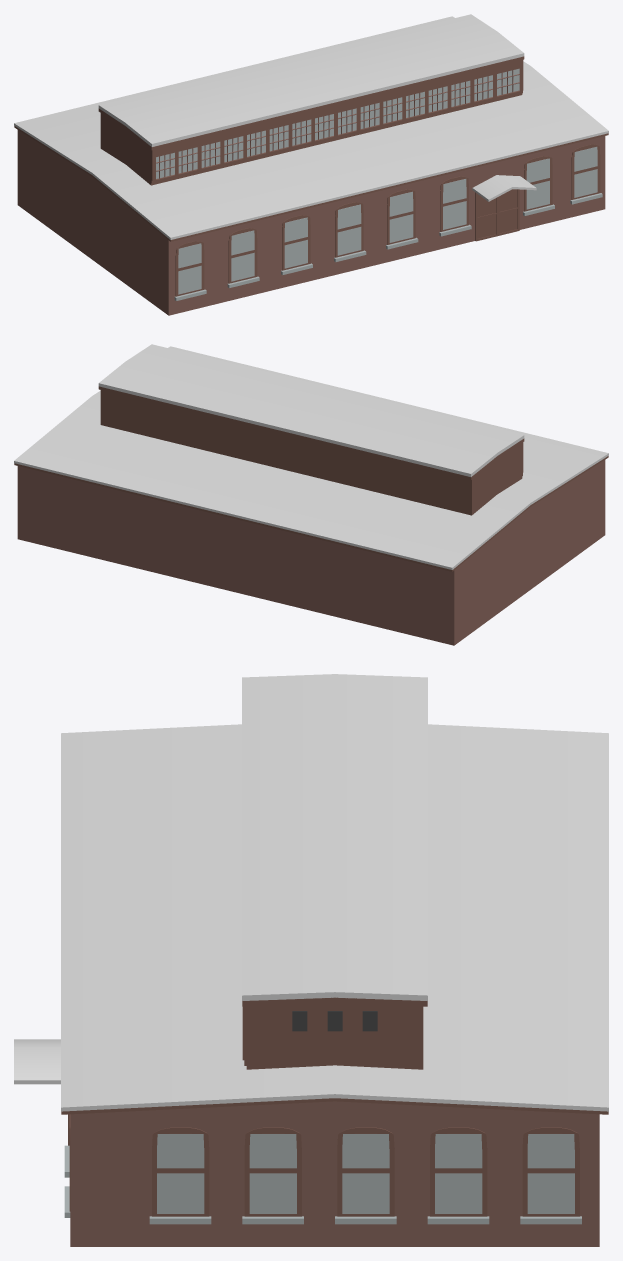
The model's file is unassignedBuilding.fbx.
3 views of the same model, one above another, from view 1: azimuth 30°, elevation 25°; view 2: azimuth 150°, elevation 25°; view 3: azimuth 270°, elevation 25° (orthographic). The views are drawn at different scales.
Parts seen in each view (by area): view 1: MB_UpperRoof, polySurface2, UB_UpperRoof, Window, windowBars, UpperWindowPanel, UpperBuilding, UB_LowerRoof, LowerWindowPanel, MB_LowerRoof, Window4, Window5 (+17 smaller); view 2: polySurface2, MB_UpperRoof, UB_UpperRoof, UpperBuilding, UB_LowerRoof, MB_LowerRoof; view 3: MB_UpperRoof, UB_UpperRoof, polySurface2, UpperBuilding, Window10, Window12, Window9, Window8, Window11, dRoof, MB_LowerRoof, wFrame10 (+5 smaller).
Boxes of the visible parts, x1,y1,x2,y2 form: MB_UpperRoof: (14,16,608,239); polySurface2: (17,130,605,315); UB_UpperRoof: (98,14,524,146); Window: (156,68,519,178); windowBars: (149,68,523,180); UpperWindowPanel: (151,60,523,157); UpperBuilding: (100,93,522,185); UB_LowerRoof: (98,56,524,149); LowerWindowPanel: (151,90,522,183); MB_LowerRoof: (14,126,608,241); Window4: (337,204,361,255); Window5: (389,191,413,242); polySurface2: (17,460,605,645); MB_UpperRoof: (14,346,608,569); UB_UpperRoof: (98,344,524,476); UpperBuilding: (100,390,522,515); UB_LowerRoof: (98,386,524,479); MB_LowerRoof: (14,456,608,571); MB_UpperRoof: (61,724,608,1111); UB_UpperRoof: (242,674,427,1000); polySurface2: (70,1101,599,1246); UpperBuilding: (246,1003,423,1069); Window10: (342,1134,389,1213); Window12: (527,1134,574,1213); Window9: (249,1134,296,1213); Window8: (157,1134,204,1213); Window11: (435,1134,482,1213); dRoof: (14,1039,60,1084); MB_LowerRoof: (61,1098,608,1114); wFrame10: (337,1127,394,1216).
Size of the model in its own units: 5.04 by 1.42 by 3.37.
